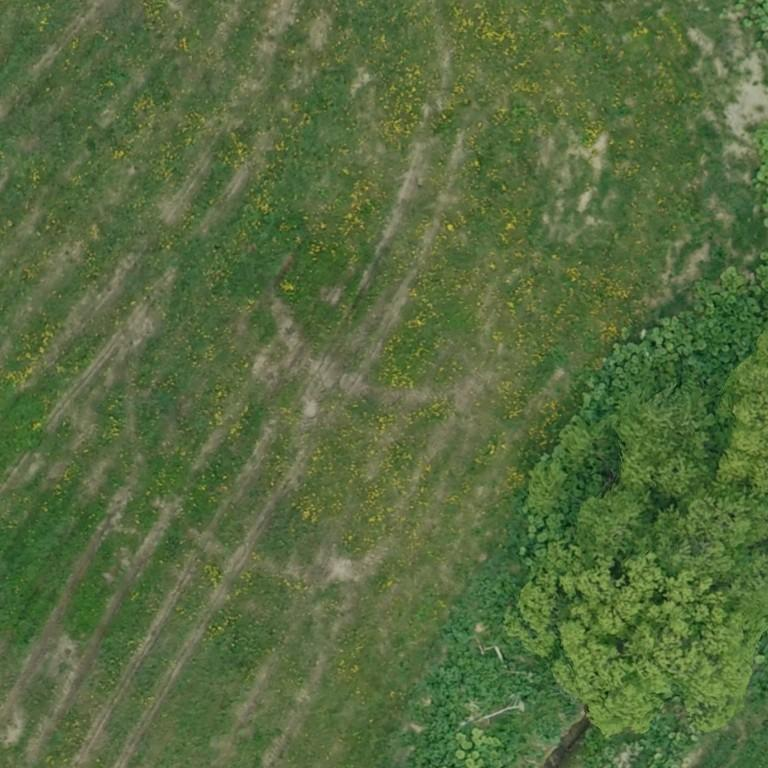hogweed: (408, 573, 573, 767)
